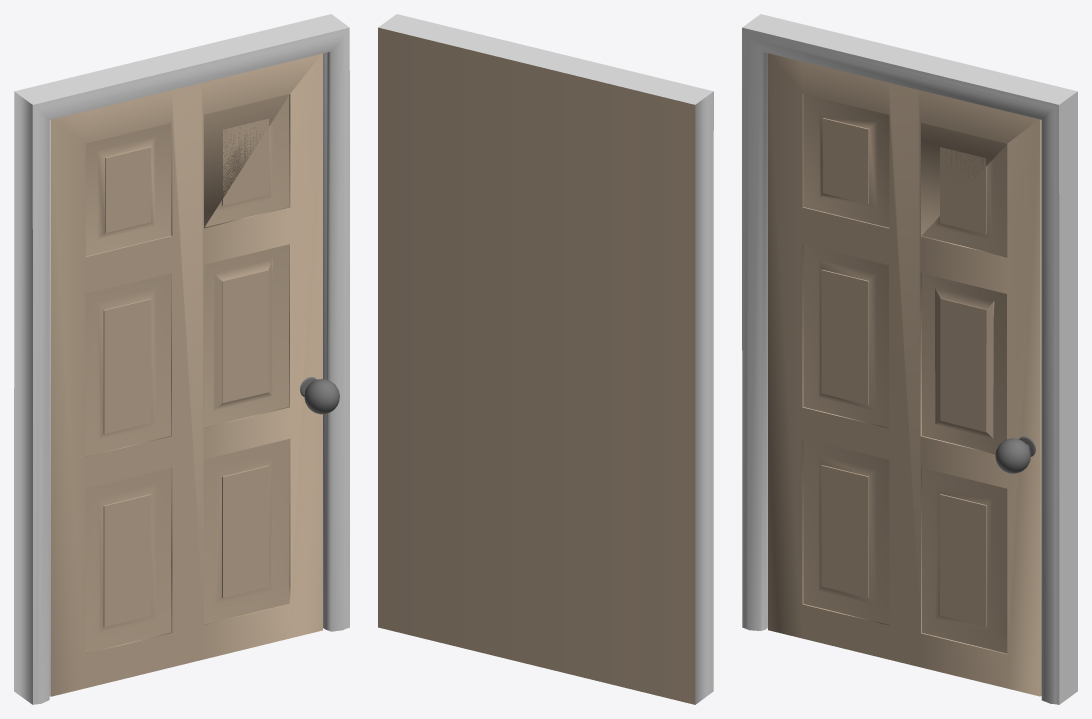
The model's file is doorwithcolor.fbx.
3 views of the same model, side by side, from view 1: azimuth 30°, elevation 25°; view 2: azimuth 150°, elevation 25°; view 3: azimuth 330°, elevation 25° (orthographic).
Visible parts, largest first — view 1: pSphere2; view 2: pSphere2; view 3: pSphere2.
Part boxes in pixels (bbox=[...]): pSphere2: bbox=[14, 14, 349, 704]; pSphere2: bbox=[378, 14, 713, 704]; pSphere2: bbox=[742, 14, 1077, 704].
Size of the model in its own units: 6.19 by 11.19 by 1.24.
